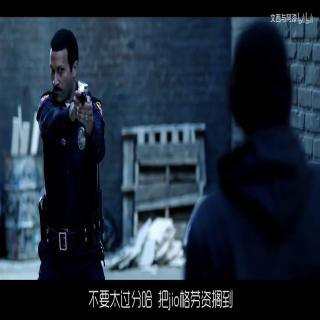gun: (73, 76, 90, 115)
